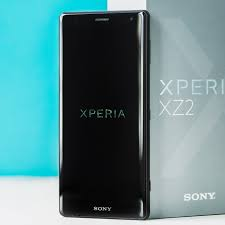sony: (58, 7, 151, 225), (143, 1, 225, 222)
